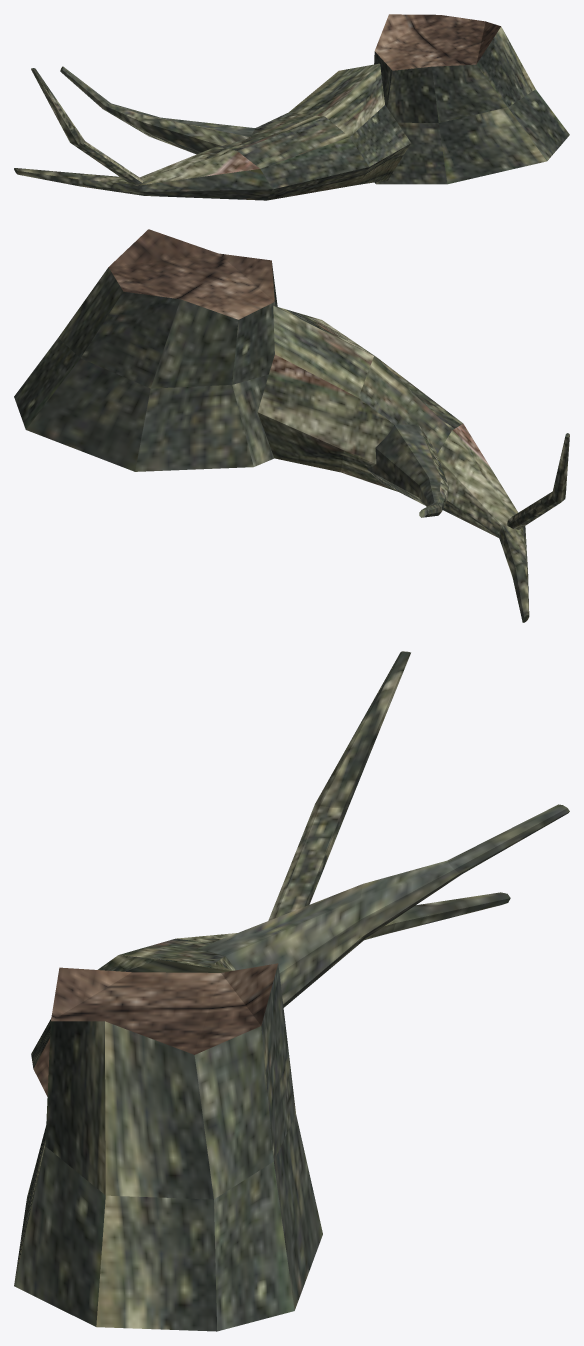
File: Willow_Dead_001.fbx
The picture shows the model from 3 angles, top to bottom: view 1: azimuth 30°, elevation 25°; view 2: azimuth 150°, elevation 25°; view 3: azimuth 270°, elevation 25°; orthographic projection. The views are drawn at different scales.
Parts seen in each view (by area): view 1: Tree_Saule_Dead1; view 2: Tree_Saule_Dead1; view 3: Tree_Saule_Dead1.
Boxes of the visible parts, x1,y1,x2,y2 form: Tree_Saule_Dead1: (14, 14, 569, 200); Tree_Saule_Dead1: (14, 229, 569, 622); Tree_Saule_Dead1: (14, 651, 569, 1331).
Bounding box in the file's own units: 2276 × 610 × 1199.
